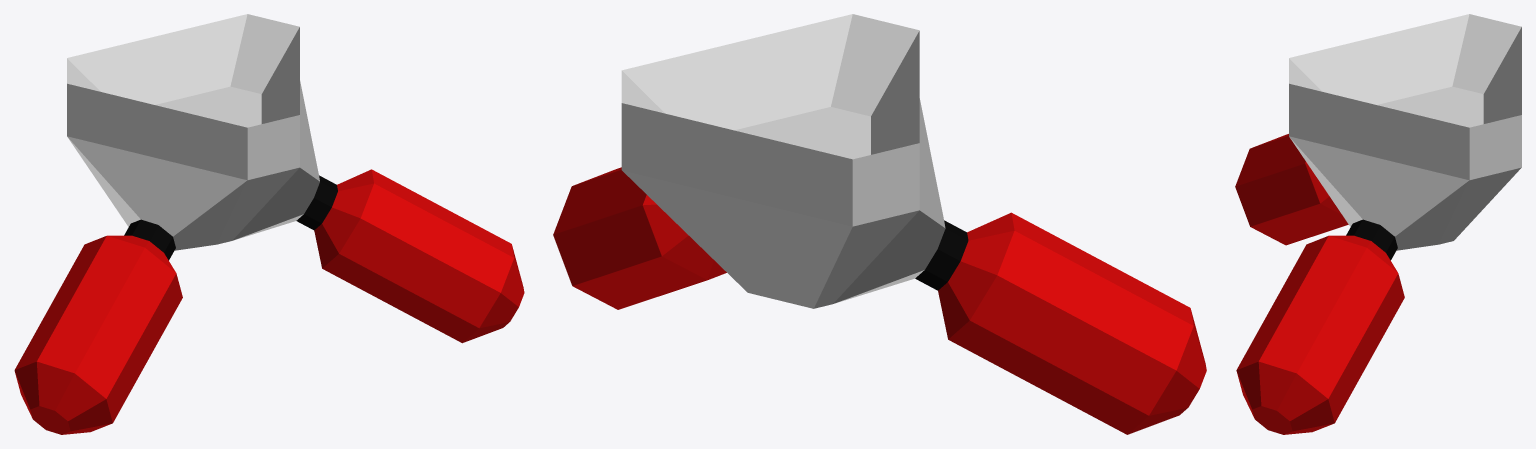
The model's file is Scuba.fbx.
3 views of the same model, side by side, from view 1: azimuth 30°, elevation 25°; view 2: azimuth 150°, elevation 25°; view 3: azimuth 270°, elevation 25° (orthographic). The views are drawn at different scales.
Parts seen in each view (by area): view 1: Cylinder; view 2: Cylinder; view 3: Cylinder.
Part boxes in pixels (box(x1,y1,x2,y2)): Cylinder: box(14, 14, 524, 434); Cylinder: box(553, 14, 1206, 434); Cylinder: box(1235, 14, 1521, 434).
Bounding box in the file's own units: 270 × 140 × 137.
